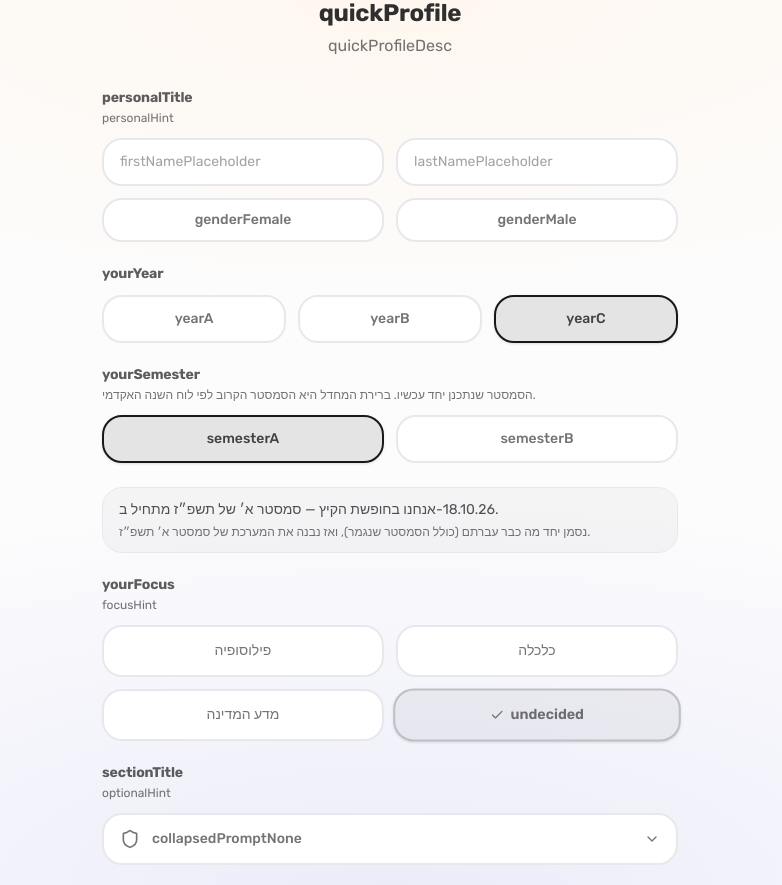
StepProfile — סמסטרי מילואים קודמים › סמסטרים שכבר נרשמו מוצגים, כדי שלא יוזנו פעמיים
The width and height of the screenshot is (782, 885).
Click the button "collapsedPromptNone". click: (227, 838)
box: [102,813,678,865]
(page scrolled)
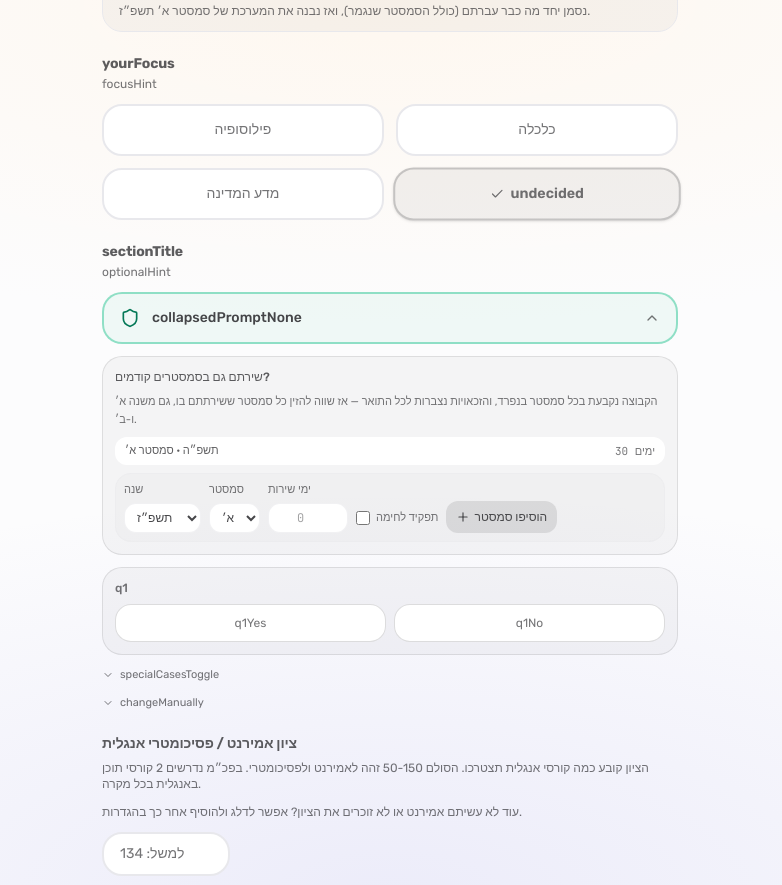
Check: the text "תשפ״ה · סמסטר א׳" is shown, box [125,443,218,459]
